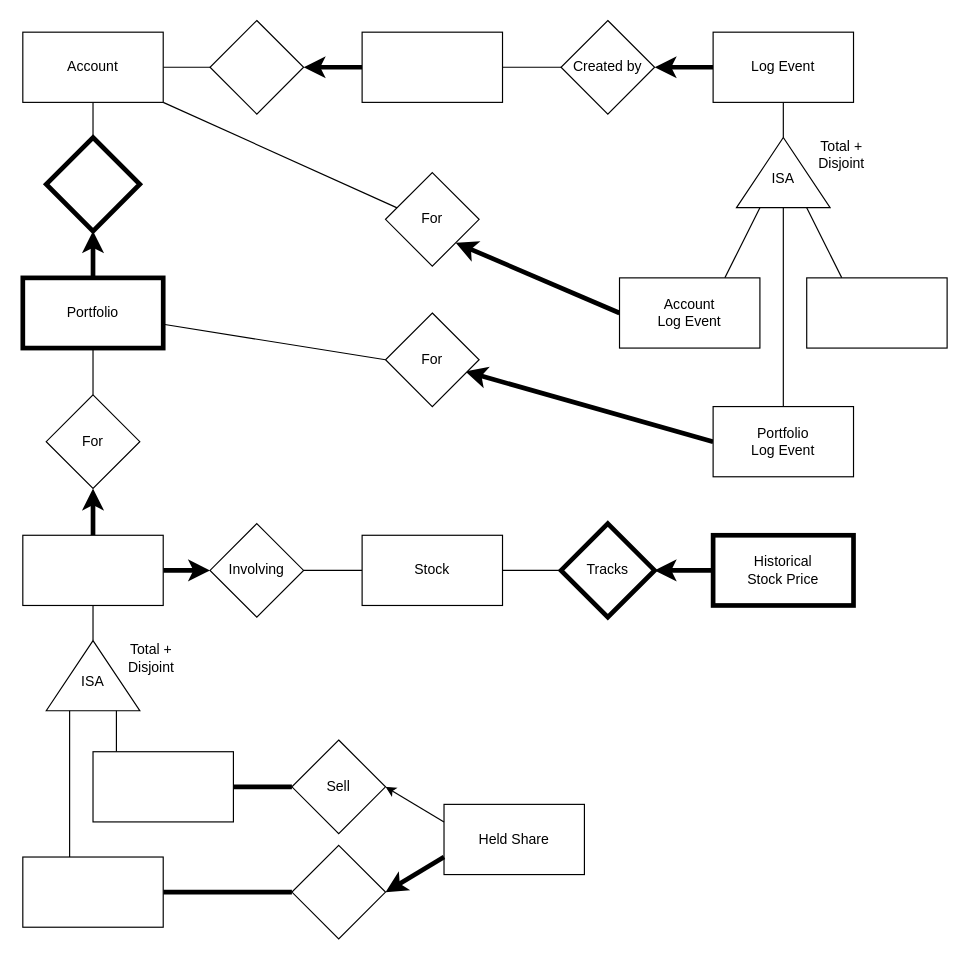
Some shapes in this 968 by 959 pixel diagram are drawn without their labels. The centre of each missing label's shape, as x and y in pixels:
"Belongs to" goes at (92,184).
"Buy" goes at (338,891).
"Generic Log Event" goes at (876,312).
"Login" goes at (256,66).
"Purchase" goes at (92,891).
"Sale" goes at (162,786).
"Session" goes at (432,66).
"Transaction" goes at (92,569).
